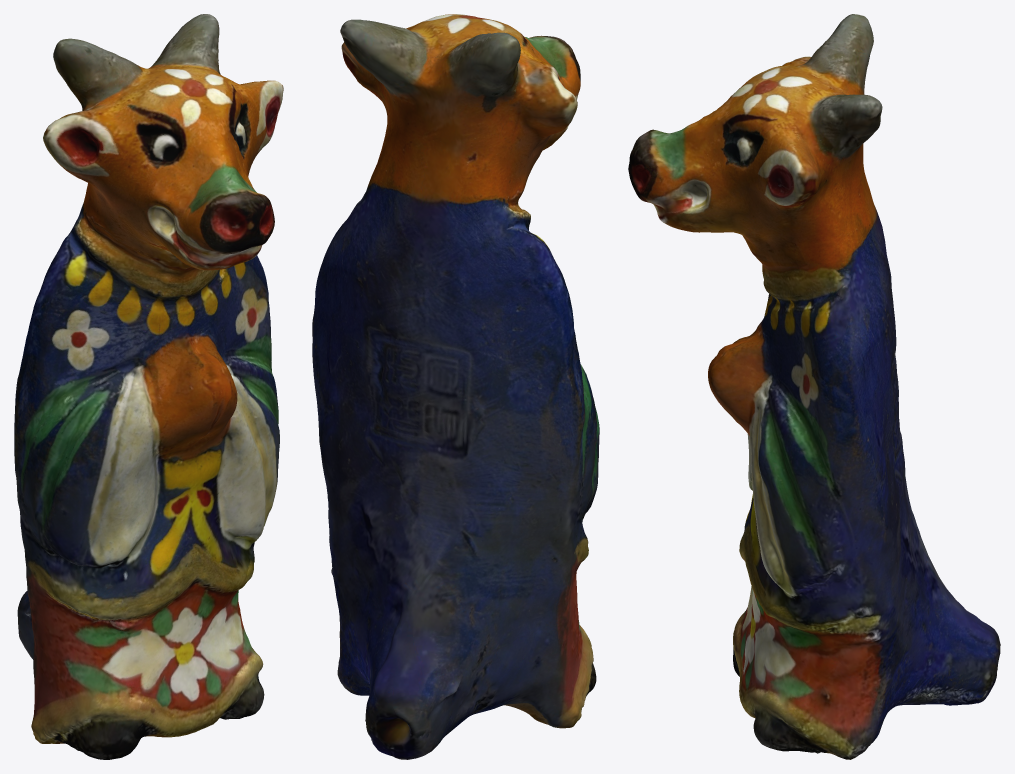
3 renders of one model, left to right at view 1: azimuth 30°, elevation 25°; view 2: azimuth 150°, elevation 25°; view 3: azimuth 270°, elevation 25°, orthographic. The views are drawn at different scales.
Size of the model in its own units: 0.2419 by 0.6163 by 0.3106.
1 material, 1 textured.
